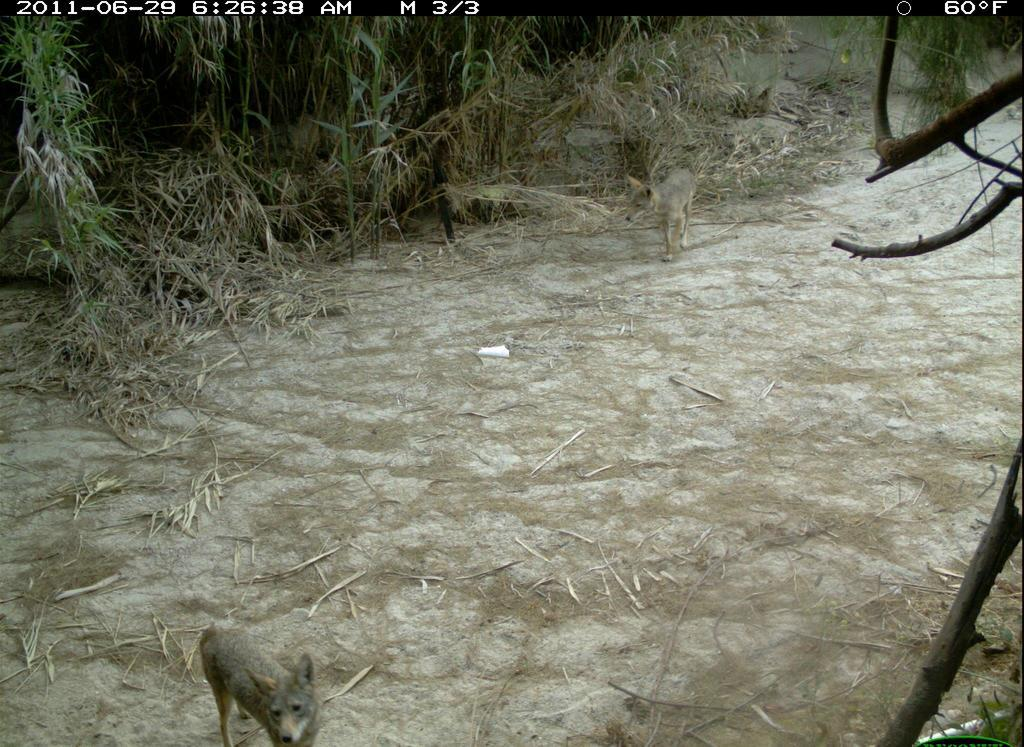coyote: (187, 615, 340, 747), (615, 163, 705, 269)
